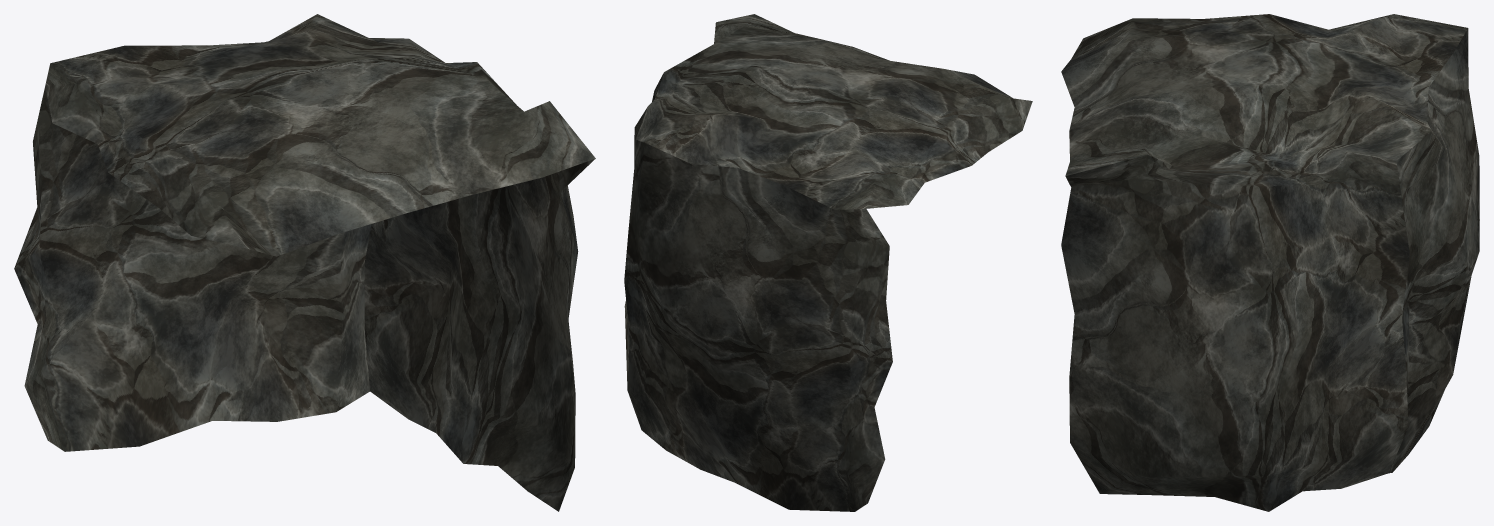
Rendered from CliffAB4x4.fbx.
3 renders of one model, left to right at view 1: azimuth 30°, elevation 25°; view 2: azimuth 150°, elevation 25°; view 3: azimuth 270°, elevation 25°, orthographic. The views are drawn at different scales.
Visible parts, largest first — view 1: CliffAB4x4; view 2: CliffAB4x4; view 3: CliffAB4x4.
Part boxes in pixels (<box>): CliffAB4x4: <box>14,14,595,511</box>; CliffAB4x4: <box>624,14,1032,511</box>; CliffAB4x4: <box>1061,14,1479,511</box>.
Size of the model in its own units: 5.06 by 5.1 by 5.04.
